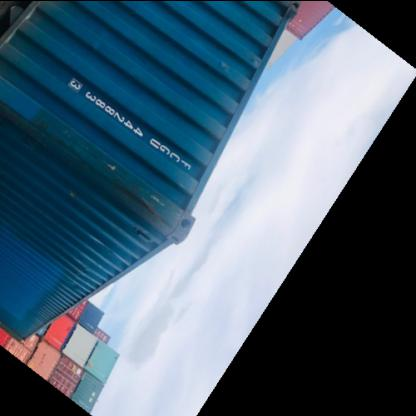Damage: (101, 152, 179, 228), (66, 250, 96, 294), (64, 182, 78, 200)
